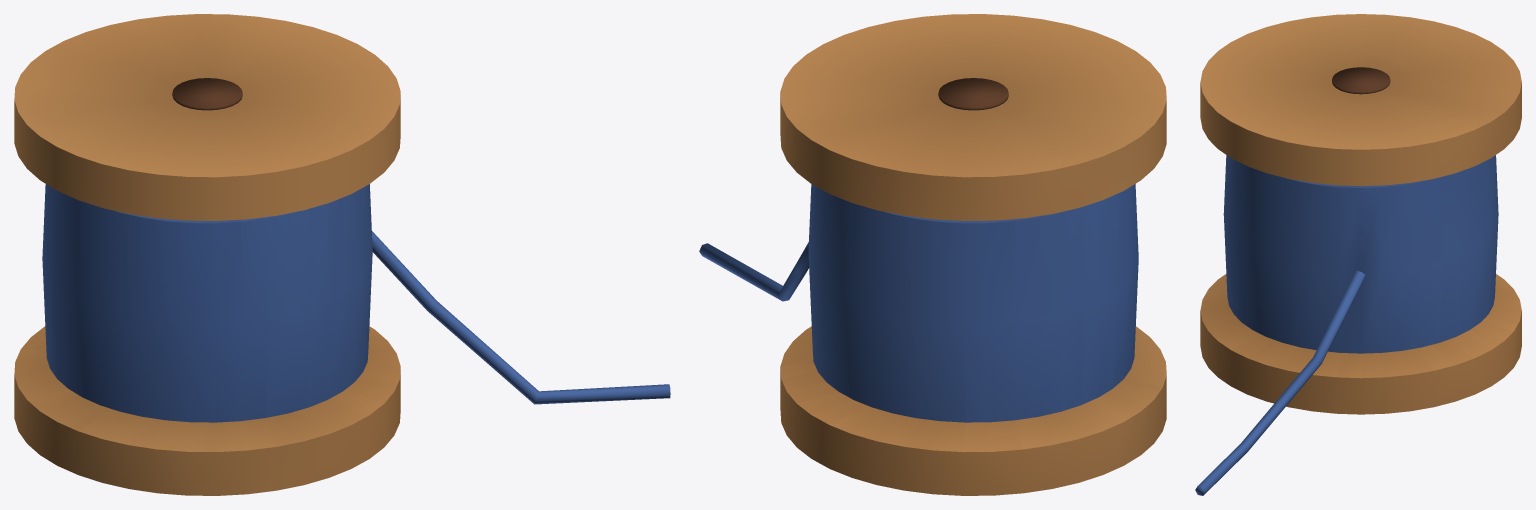
The model's file is den_spool_b.glb.
3 renders of one model, left to right at view 1: azimuth 30°, elevation 25°; view 2: azimuth 150°, elevation 25°; view 3: azimuth 270°, elevation 25°, orthographic. The views are drawn at different scales.
Visible parts, largest first — view 1: den_spool_b; view 2: den_spool_b; view 3: den_spool_b.
Part boxes in pixels (x1,y1,x2,y2): den_spool_b: (14, 14, 670, 495); den_spool_b: (699, 14, 1166, 495); den_spool_b: (1195, 14, 1521, 495).
Bounding box in the file's own units: 7.03 × 4.04 × 4.47.
